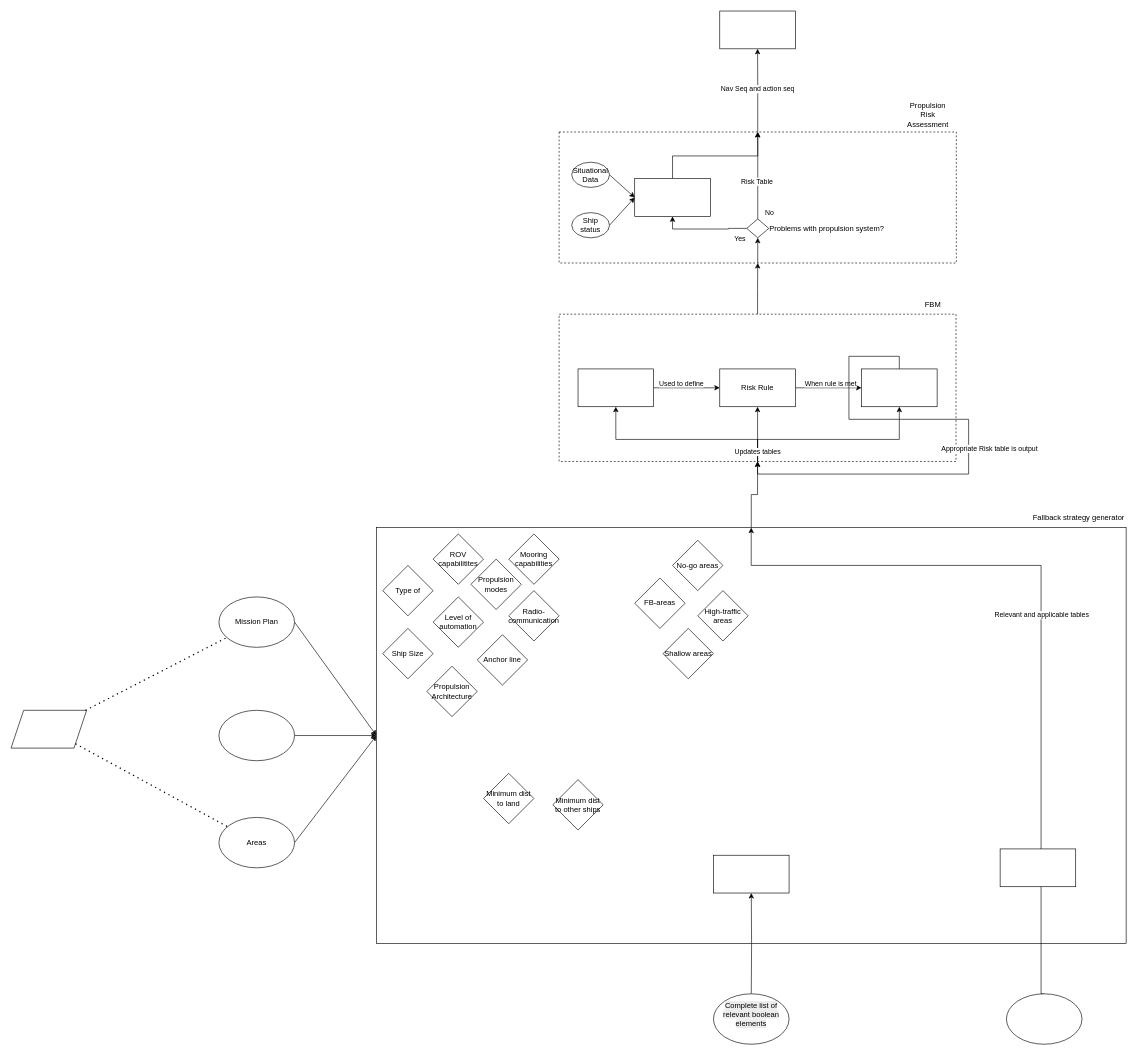
Image size: 1143x1057. Some labels were removed from this diagram. Each missing label, with the centre of its shape:
"Boolean element" goes at [615,387].
"Capabilities" goes at [256,735].
"Choose relevant tables" goes at [1037,867].
"complete list of possible actions (List of risk-tables)" goes at [1044,1018].
"Generate/choose relevant boolean elements" goes at [751,874].
"Risk Table modifier" goes at [672,197].
"Risk Tables" goes at [899,387].
"Ship controller" goes at [757,29].
"User defined" goes at [48,729].
